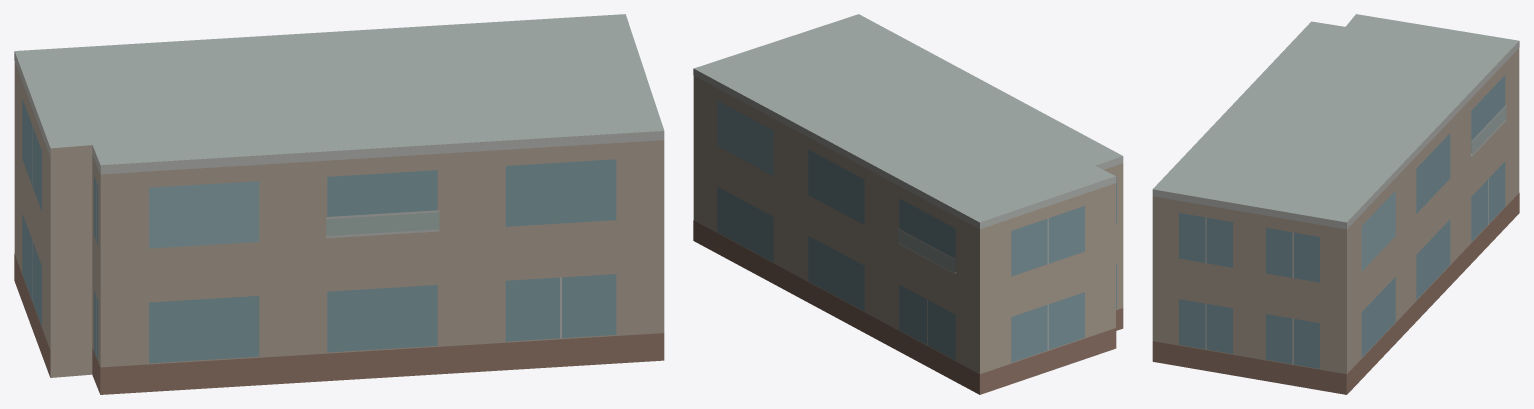
File: survey-upis-32659973.glb
The picture shows the model from 3 angles, left to right: view 1: azimuth 30°, elevation 25°; view 2: azimuth 150°, elevation 25°; view 3: azimuth 270°, elevation 25°; orthographic projection. The views are drawn at different scales.
Visible parts, largest first — view 1: survey-upis-32659973.tmp; view 2: survey-upis-32659973.tmp; view 3: survey-upis-32659973.tmp.
Part boxes in pixels (x1=…): survey-upis-32659973.tmp: x1=14, y1=14, x2=664, y2=394; survey-upis-32659973.tmp: x1=693, y1=14, x2=1123, y2=394; survey-upis-32659973.tmp: x1=1152, y1=14, x2=1519, y2=394.
Bounding box in the file's own units: 15.83 × 6.1 × 11.78.
